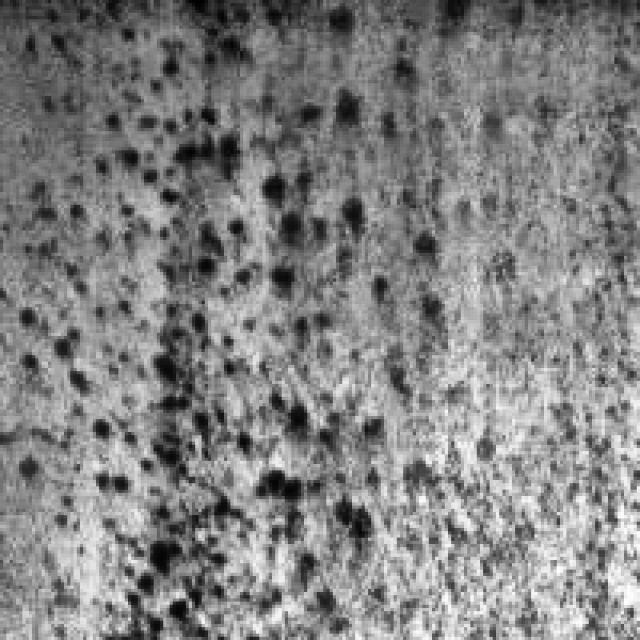Rolled_in_Scale: (29, 0, 438, 637)
